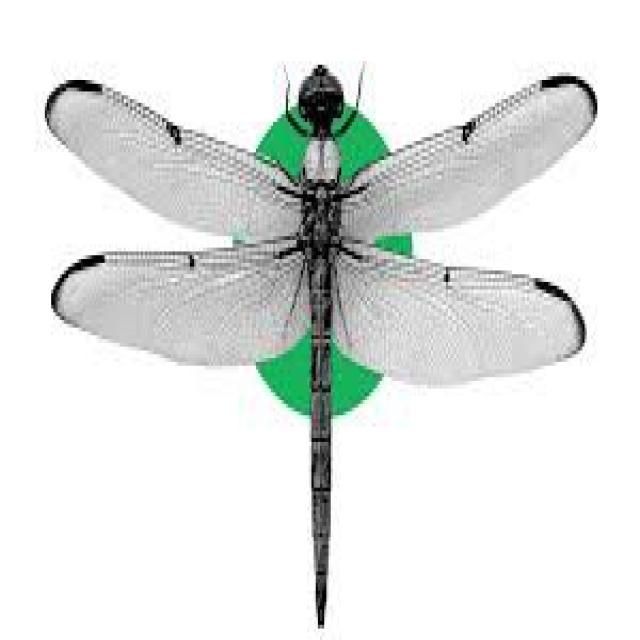dragonfly: (45, 65, 595, 621)
